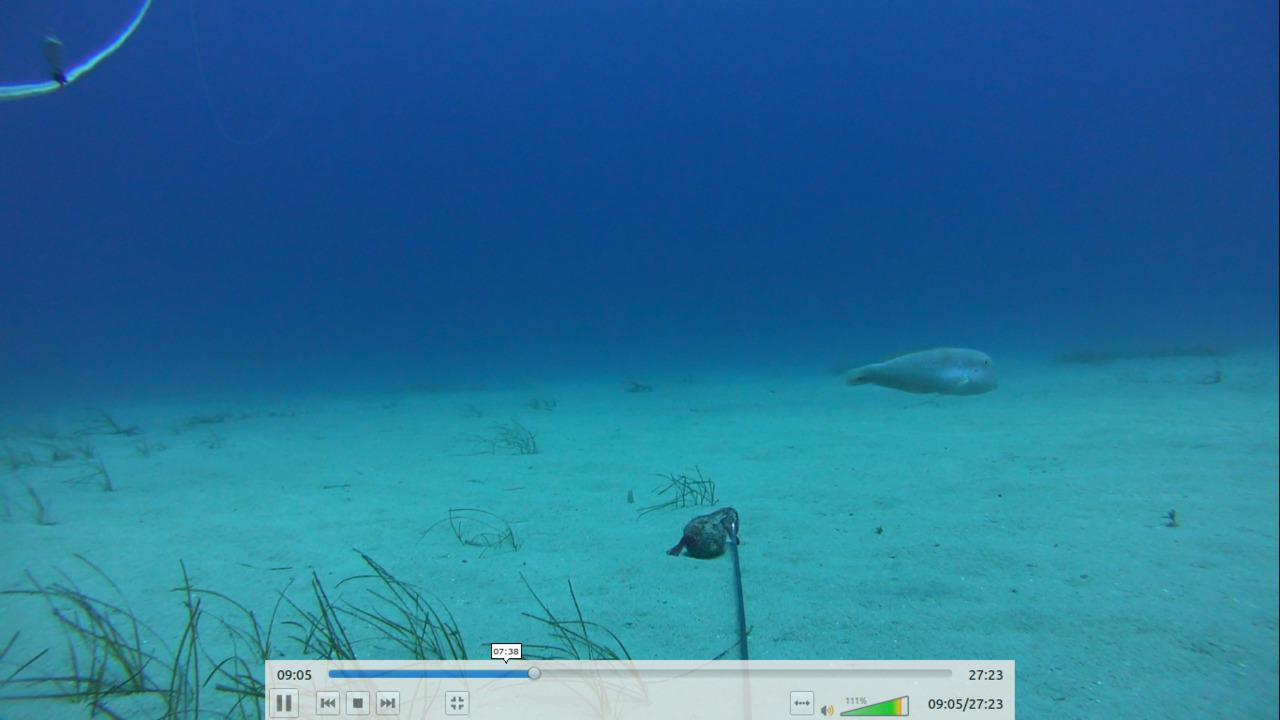raor: (830, 340, 1004, 403)
